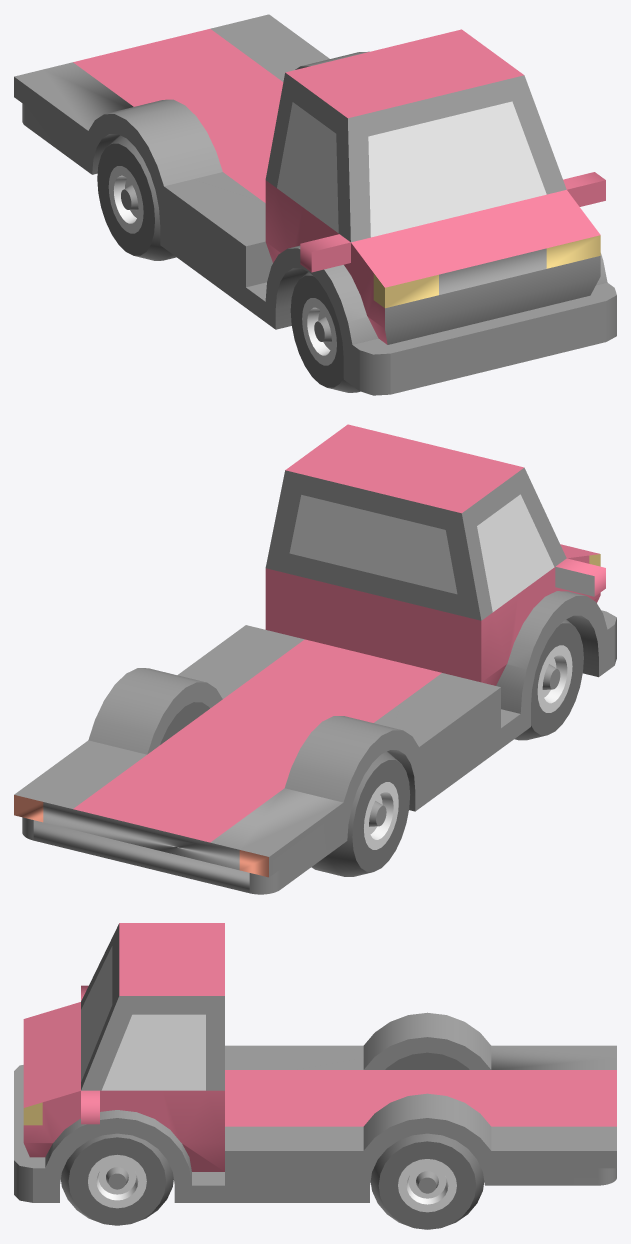
File: deliveryFlat.fbx
The picture shows the model from 3 angles, top to bottom: view 1: azimuth 30°, elevation 25°; view 2: azimuth 150°, elevation 25°; view 3: azimuth 270°, elevation 25°; orthographic projection. The views are drawn at different scales.
Visible parts, largest first — view 1: body, wheel_backRight, wheel_frontRight; view 2: body, wheel_backRight, wheel_frontRight; view 3: body, wheel_backLeft, wheel_frontLeft.
Boxes of the visible parts, x1,y1,x2,y2 form: body: [14, 14, 616, 395]; wheel_backRight: [97, 135, 176, 260]; wheel_frontRight: [290, 272, 360, 392]; body: [14, 424, 616, 894]; wheel_backRight: [311, 751, 410, 876]; wheel_frontRight: [514, 619, 583, 740]; body: [14, 923, 616, 1202]; wheel_backLeft: [370, 1133, 484, 1229]; wheel_frontLeft: [61, 1133, 173, 1225].
Size of the model in its own units: 150 by 130 by 315.
